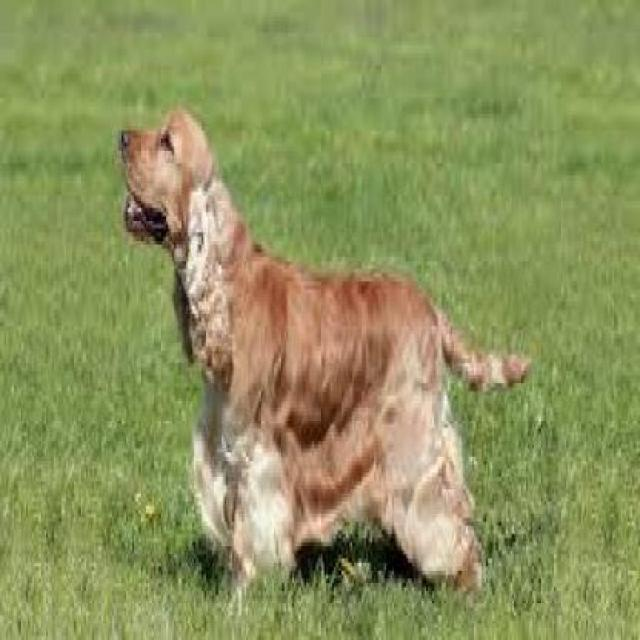animals: (112, 80, 534, 640)
